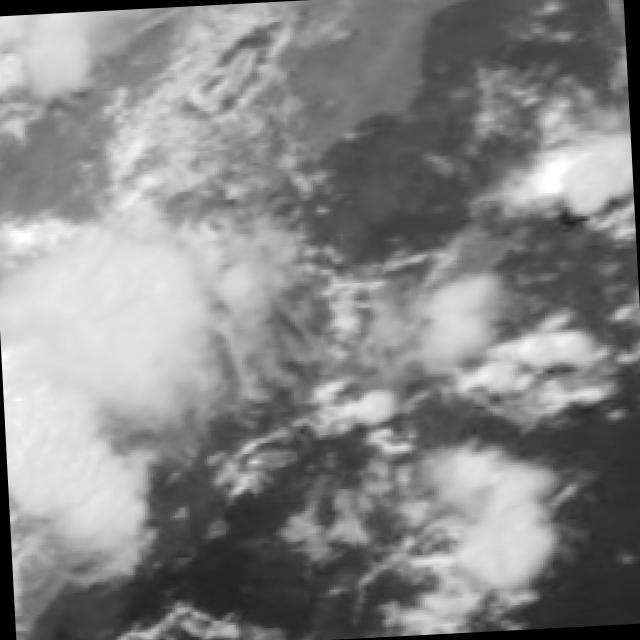CB: (26, 223, 197, 411)
